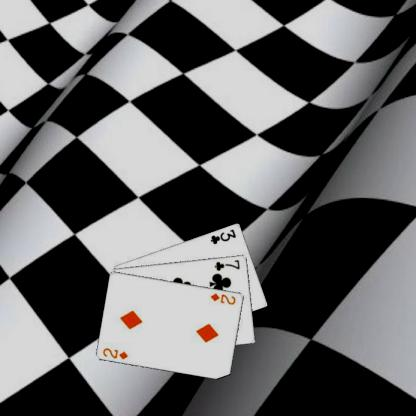2D: (208, 290, 237, 306), (100, 346, 130, 360)
3C: (208, 227, 237, 245)
7C: (212, 257, 241, 272)
